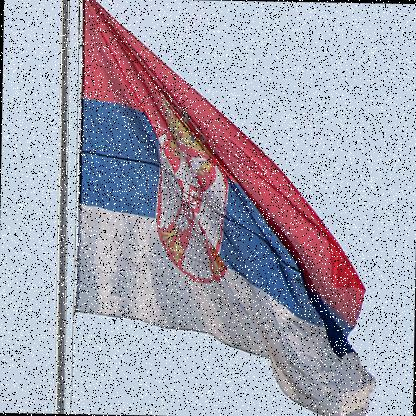rs: (77, 1, 384, 416)
